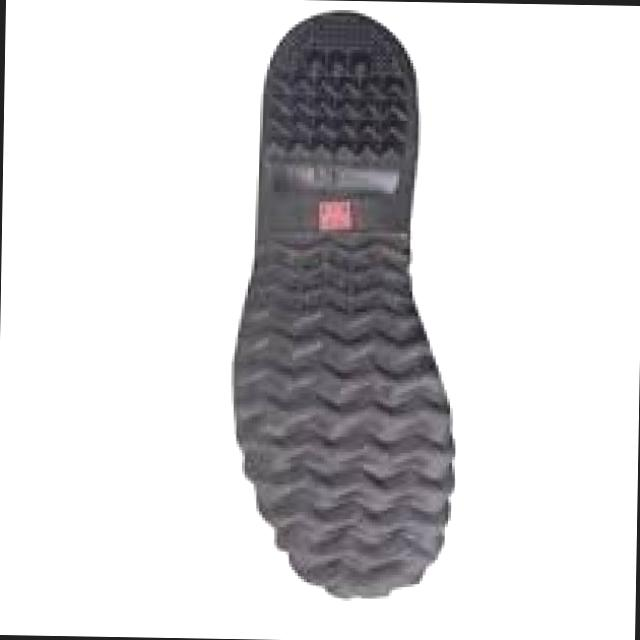giay: (233, 11, 455, 598)
